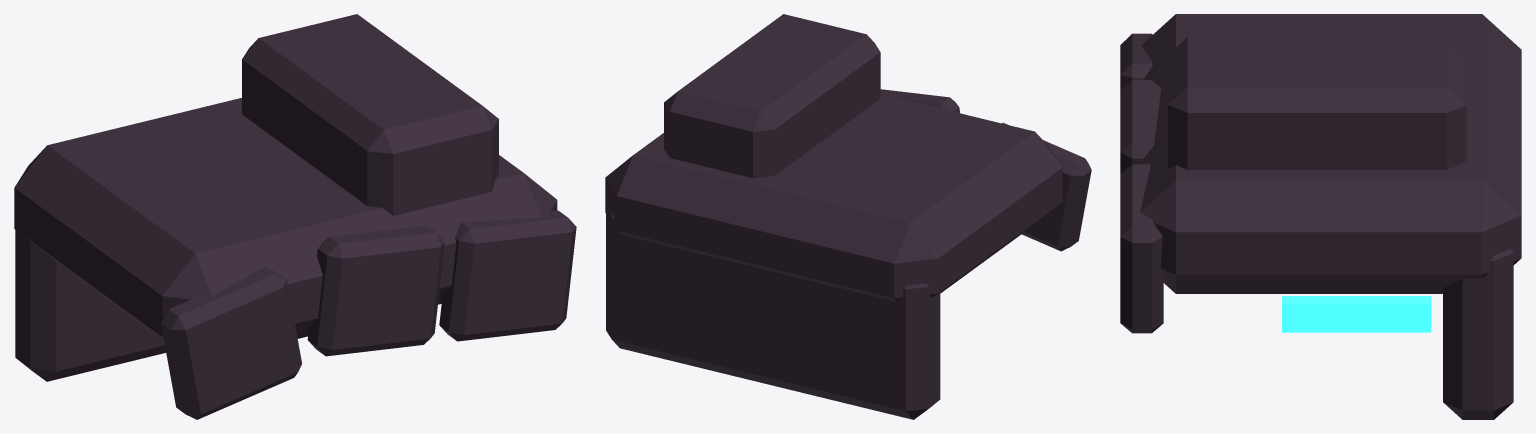
File: SM_NPC_Hair_003_Sidecut.glb
3 renders of one model, left to right at view 1: azimuth 30°, elevation 25°; view 2: azimuth 150°, elevation 25°; view 3: azimuth 270°, elevation 25°, orthographic. The views are drawn at different scales.
Parts seen in each view (by area): view 1: SM_NPC_Hair_003_Sidecut; view 2: SM_NPC_Hair_003_Sidecut; view 3: SM_NPC_Hair_003_Sidecut.
Boxes of the visible parts, x1,y1,x2,y2 form: SM_NPC_Hair_003_Sidecut: [14, 14, 576, 419]; SM_NPC_Hair_003_Sidecut: [605, 14, 1091, 419]; SM_NPC_Hair_003_Sidecut: [1120, 14, 1521, 419].
Bounding box in the file's own units: 0.6222 × 0.435 × 0.5105.
